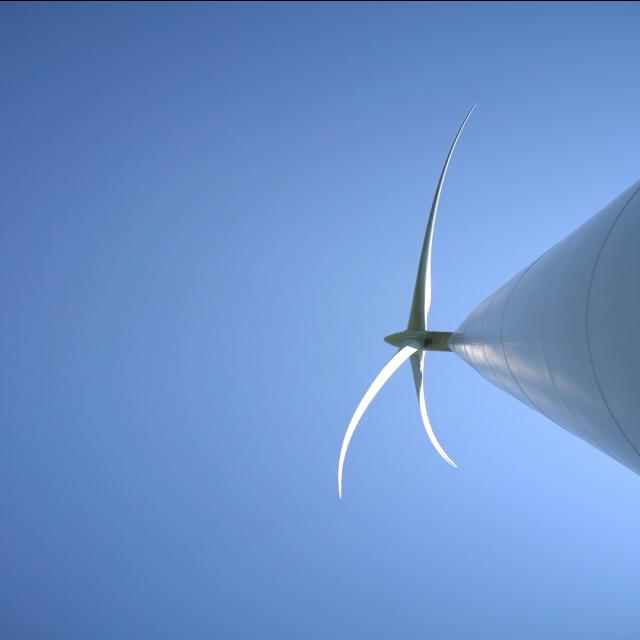blade 1: (391, 115, 473, 316)
blade 2: (405, 359, 469, 505)
blade 3: (324, 353, 389, 500)
